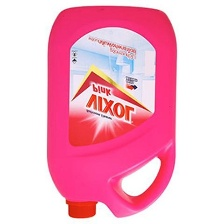cleaning_solution: (44, 2, 179, 221)
